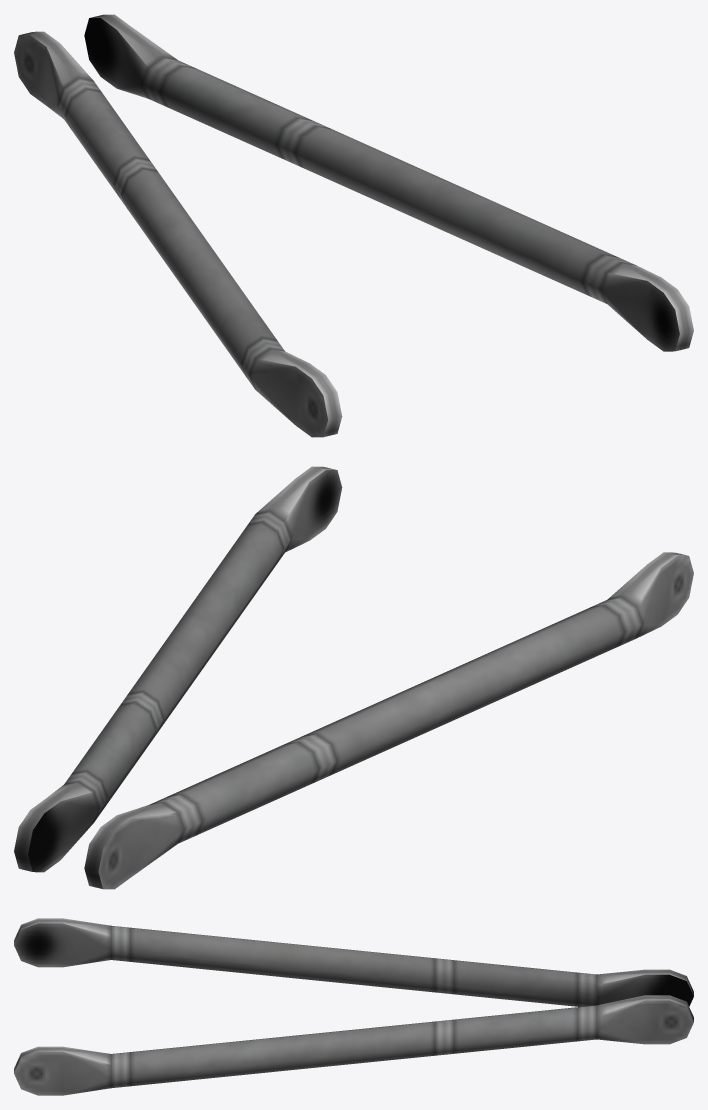
File: larm.obj
The picture shows the model from 3 angles, top to bottom: view 1: azimuth 30°, elevation 25°; view 2: azimuth 150°, elevation 25°; view 3: azimuth 270°, elevation 25°; orthographic projection. The views are drawn at different scales.
Visible parts, largest first — view 1: l1; view 2: l1; view 3: l1.
Part boxes in pixels (x1=…): l1: x1=14, y1=14, x2=693, y2=437; l1: x1=14, y1=466, x2=693, y2=889; l1: x1=14, y1=918, x2=693, y2=1095.
Bounding box in the file's own units: 0.35 × 0.05 × 0.7.
1 material, 1 textured.
